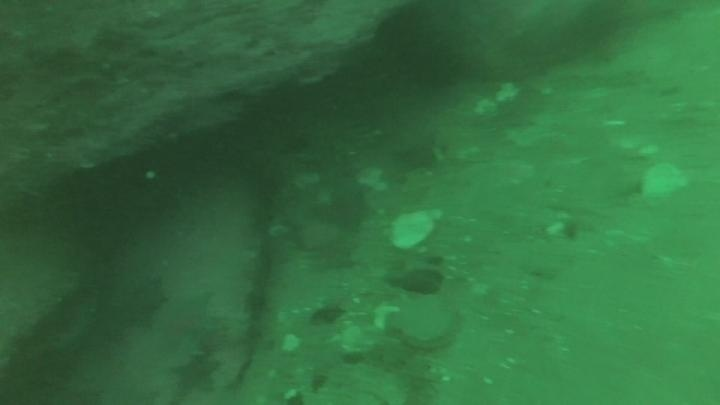scallop: (390, 293, 461, 353)
starfish: (153, 288, 221, 353), (166, 345, 219, 394)
